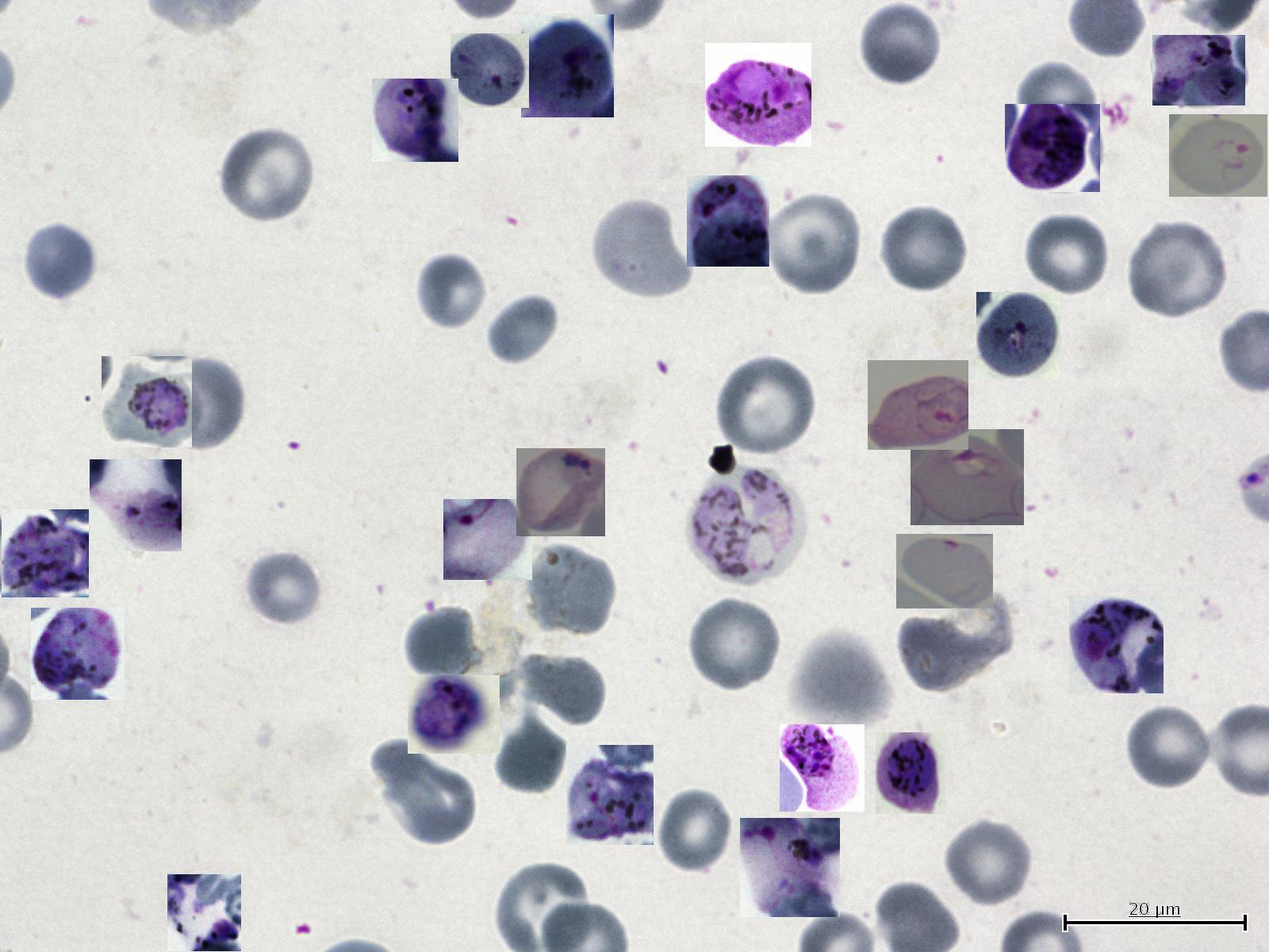Infected: (691, 464, 808, 583), (705, 43, 811, 147), (911, 429, 1024, 525), (740, 818, 840, 917), (521, 14, 614, 117), (1069, 596, 1164, 693), (868, 360, 968, 450), (566, 745, 654, 845), (31, 608, 125, 700), (90, 459, 182, 551), (1005, 104, 1100, 192), (102, 356, 192, 447), (1169, 114, 1267, 197), (516, 448, 605, 536), (2, 509, 89, 597), (687, 175, 769, 267), (780, 724, 865, 812), (976, 292, 1060, 379), (408, 675, 500, 754), (443, 499, 532, 580), (896, 534, 993, 608), (372, 79, 458, 162), (1152, 35, 1245, 106), (450, 33, 529, 108), (167, 874, 241, 951), (876, 732, 945, 814)
Uninfected: (590, 196, 690, 301), (1127, 220, 1229, 321), (762, 194, 862, 296), (219, 125, 316, 224), (380, 742, 470, 847), (523, 540, 615, 639), (895, 612, 1003, 695), (688, 596, 780, 692), (156, 355, 247, 451), (722, 359, 811, 457), (944, 816, 1035, 907), (878, 204, 968, 295), (496, 861, 586, 951), (790, 636, 886, 720), (1125, 704, 1214, 792), (1009, 56, 1098, 144), (858, 0, 944, 88), (1023, 212, 1110, 298), (515, 653, 608, 727), (657, 787, 734, 873), (243, 549, 325, 628), (491, 714, 568, 797), (412, 250, 489, 331), (22, 222, 98, 301), (402, 605, 479, 682), (485, 293, 561, 368)
